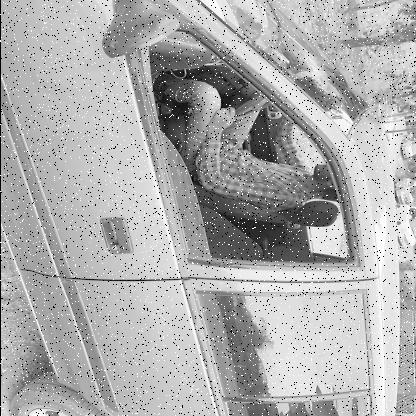no_seatbelt: (226, 157, 328, 200)
